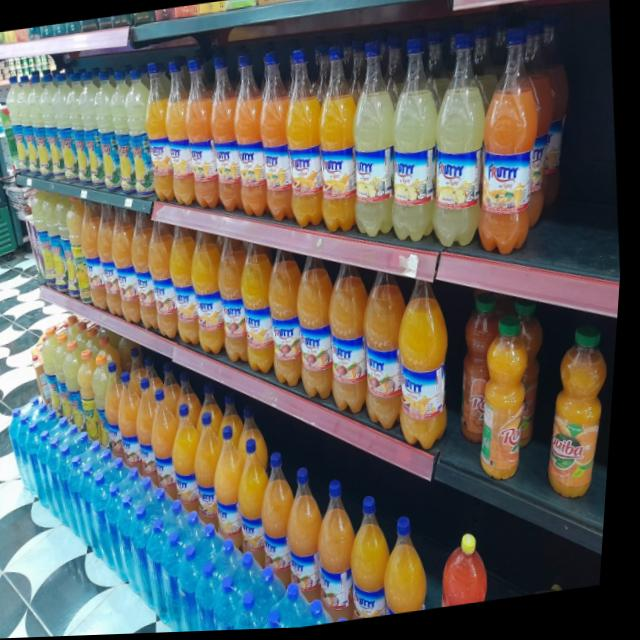ramy_plastique: (460, 29, 558, 264), (374, 37, 456, 253), (422, 42, 498, 249), (338, 41, 410, 246), (390, 280, 466, 453), (308, 44, 374, 234), (273, 49, 334, 234), (356, 267, 421, 426), (222, 51, 281, 226), (246, 49, 304, 227), (323, 261, 384, 415), (200, 53, 256, 217), (175, 56, 230, 216), (314, 482, 372, 626), (262, 243, 318, 388), (235, 239, 290, 377), (156, 58, 205, 210), (346, 494, 403, 623), (235, 437, 289, 573), (258, 456, 312, 591), (210, 422, 263, 557), (135, 61, 184, 207), (212, 230, 264, 365), (186, 225, 236, 354), (165, 218, 213, 347), (117, 68, 162, 200), (143, 213, 190, 338), (101, 69, 145, 201), (169, 399, 217, 518), (149, 385, 197, 503), (87, 67, 131, 195), (125, 207, 168, 328), (107, 204, 150, 320), (92, 200, 131, 315), (57, 71, 95, 185), (45, 72, 83, 185), (76, 196, 115, 306), (116, 371, 156, 473), (35, 70, 72, 180), (11, 70, 47, 176), (63, 193, 98, 298), (91, 354, 127, 447), (103, 362, 139, 454), (77, 352, 110, 442), (52, 328, 83, 416)
rouiba_plastique: (537, 327, 622, 507)
